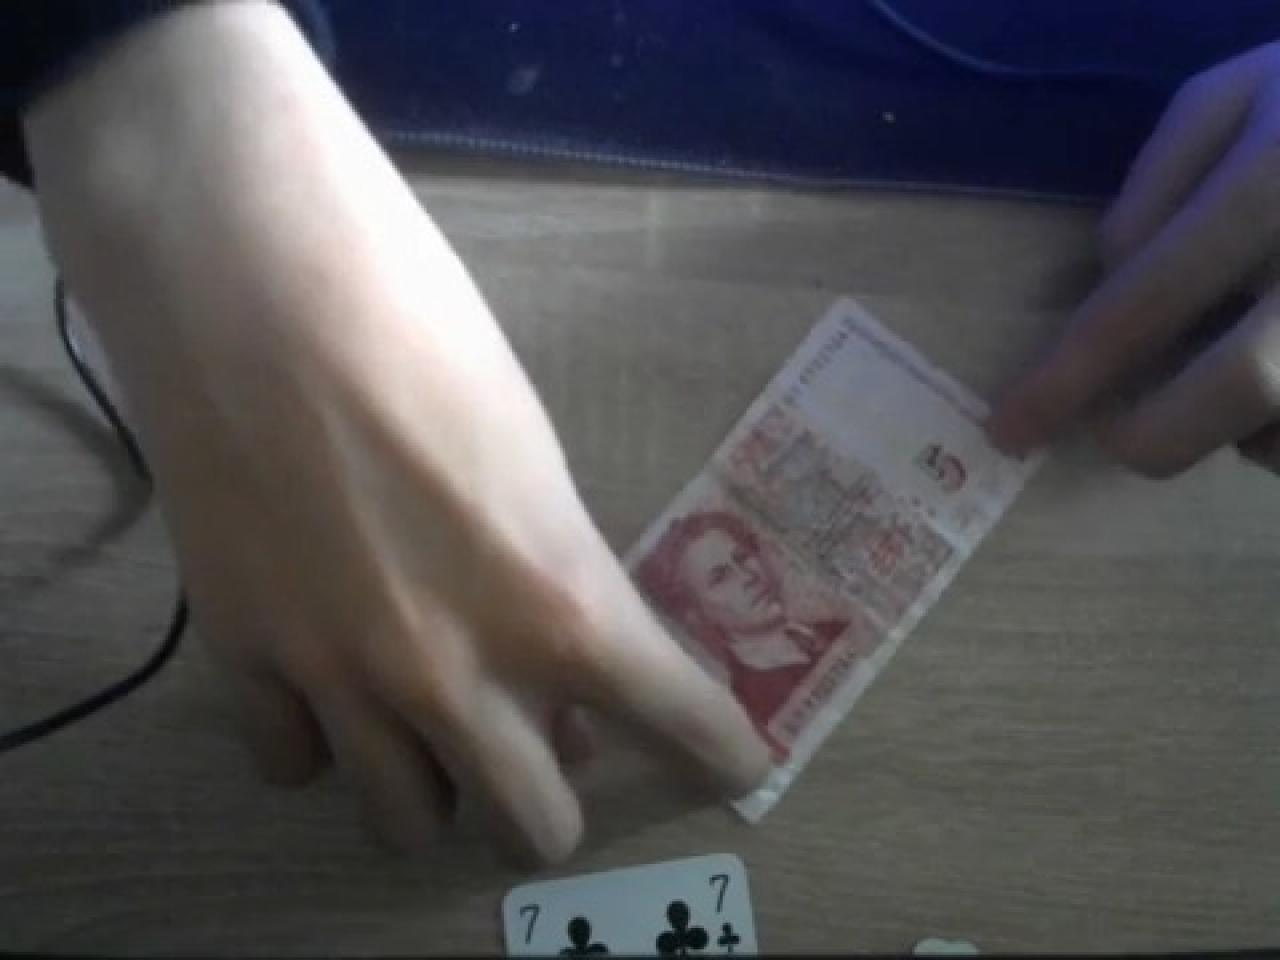5leva: (621, 302, 1048, 829)
